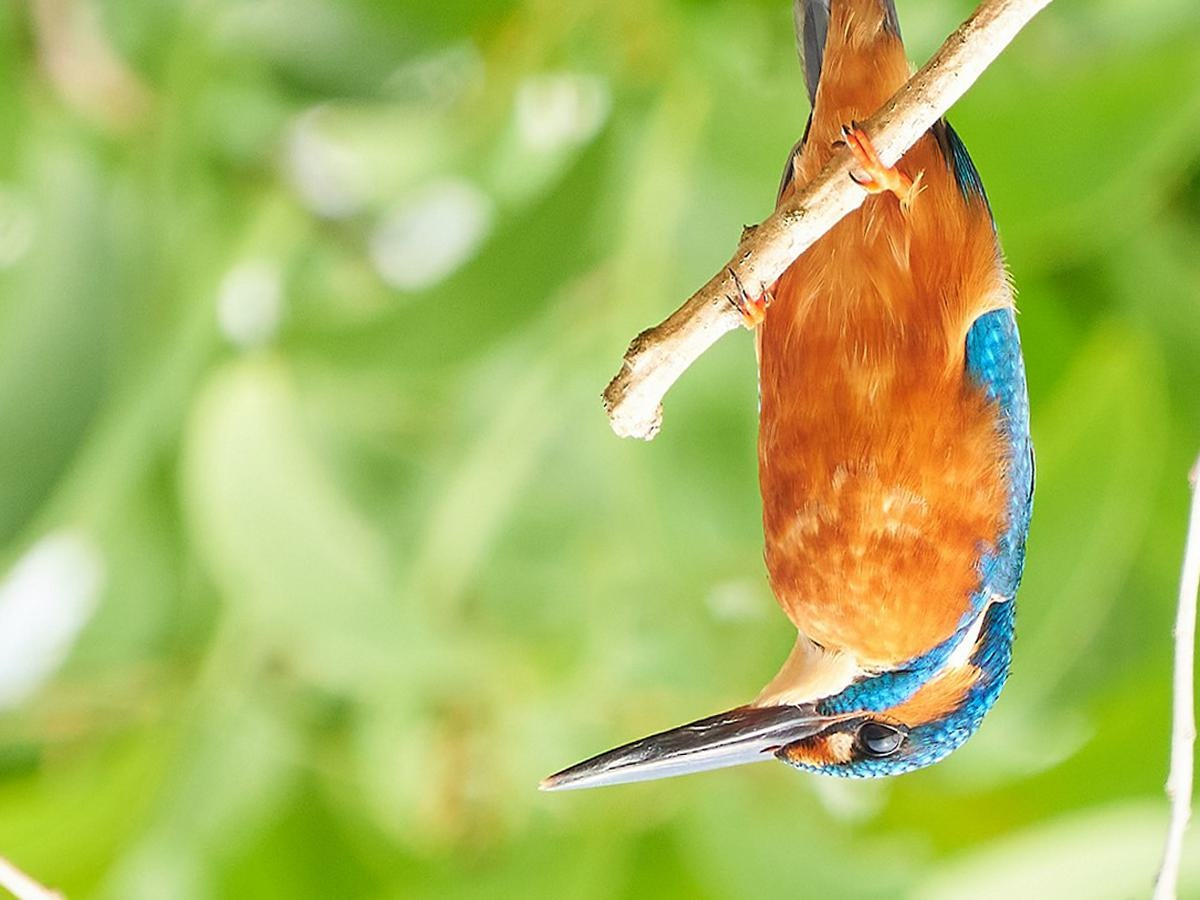kingfisher: (530, 1, 1076, 838)
